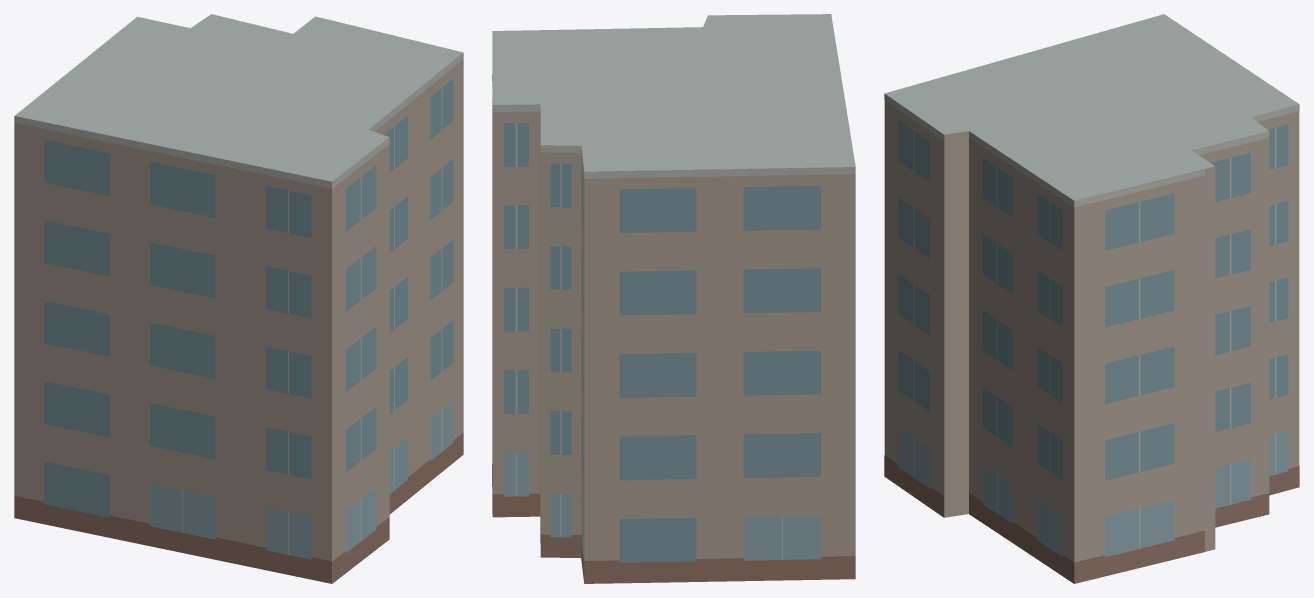
The model's file is survey-upis-32606672.glb.
The picture shows the model from 3 angles, left to right: view 1: azimuth 30°, elevation 25°; view 2: azimuth 150°, elevation 25°; view 3: azimuth 270°, elevation 25°; orthographic projection. The views are drawn at different scales.
Parts seen in each view (by area): view 1: survey-upis-32606672.tmp; view 2: survey-upis-32606672.tmp; view 3: survey-upis-32606672.tmp.
Part boxes in pixels (bbox=[...]): survey-upis-32606672.tmp: bbox=[14, 14, 463, 583]; survey-upis-32606672.tmp: bbox=[492, 14, 855, 583]; survey-upis-32606672.tmp: bbox=[884, 14, 1299, 583].
Size of the model in its own units: 14.86 by 14.2 by 13.95.
